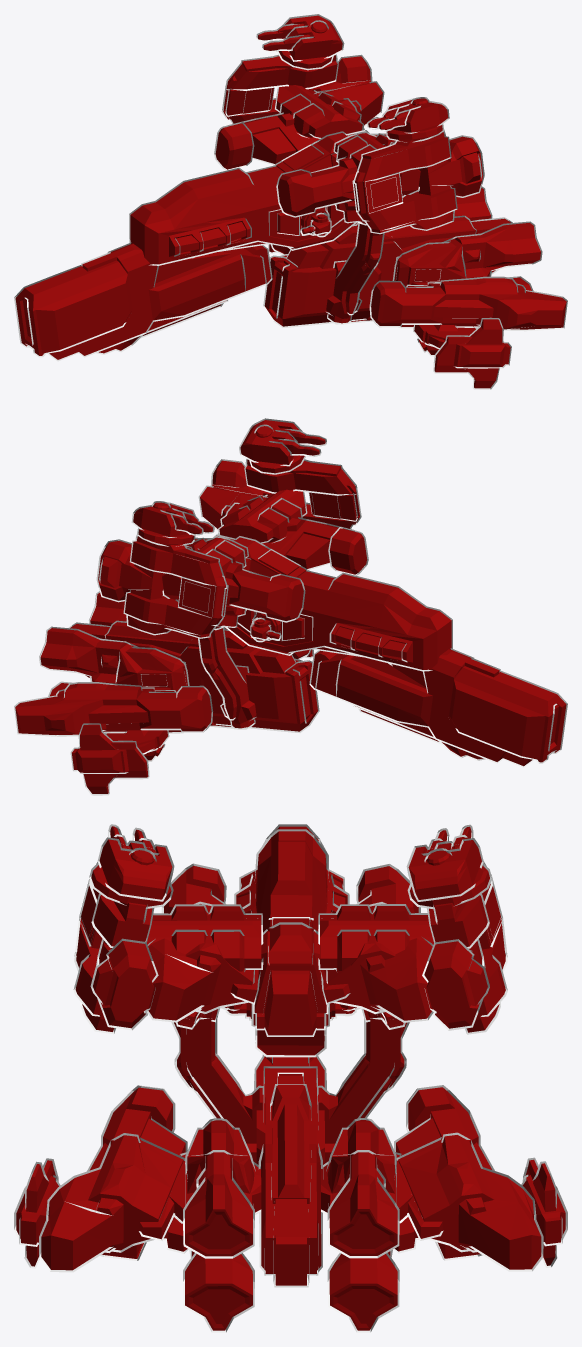
File: ship9_red.glb
3 renders of one model, top to bottom at view 1: azimuth 30°, elevation 25°; view 2: azimuth 150°, elevation 25°; view 3: azimuth 270°, elevation 25°, orthographic. The views are drawn at different scales.
Parts seen in each view (by area): view 1: ME_ship_IndexedFaceSet, ME_ship_IndexedFaceSet.001; view 2: ME_ship_IndexedFaceSet, ME_ship_IndexedFaceSet.001; view 3: ME_ship_IndexedFaceSet.001, ME_ship_IndexedFaceSet.
Boxes of the visible parts, x1,y1,x2,y2 form: ME_ship_IndexedFaceSet: (14, 14, 484, 361); ME_ship_IndexedFaceSet.001: (263, 85, 567, 389); ME_ship_IndexedFaceSet: (96, 418, 567, 767); ME_ship_IndexedFaceSet.001: (14, 489, 319, 795); ME_ship_IndexedFaceSet.001: (14, 904, 567, 1332); ME_ship_IndexedFaceSet: (73, 824, 507, 1057).
Bounding box in the file's own units: 702 × 376 × 472.
